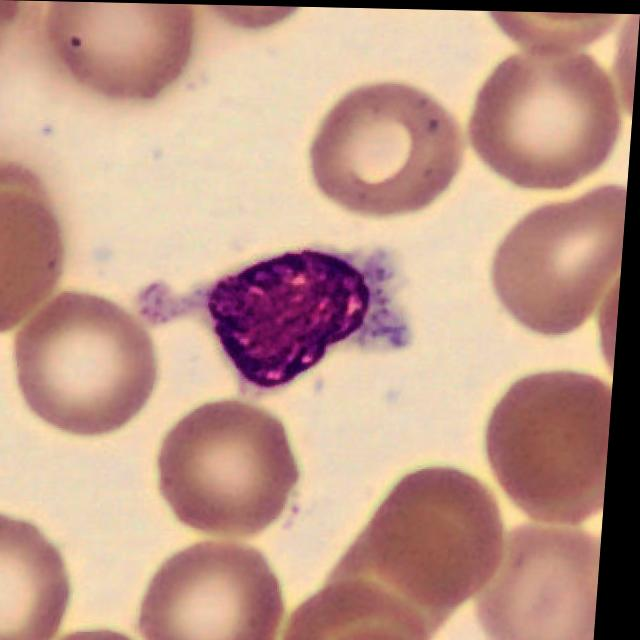Linfocito: (146, 250, 413, 386)
